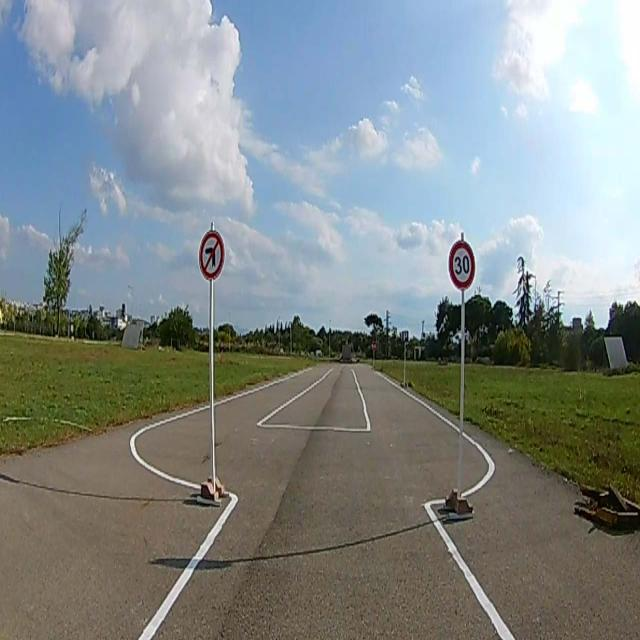30: (449, 242, 474, 287)
soladonulmez: (198, 231, 224, 280)
